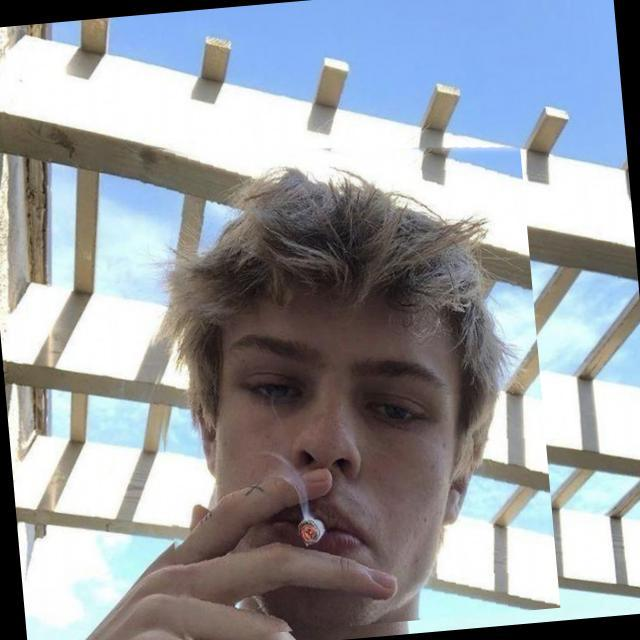cigarette: (264, 473, 344, 569)
